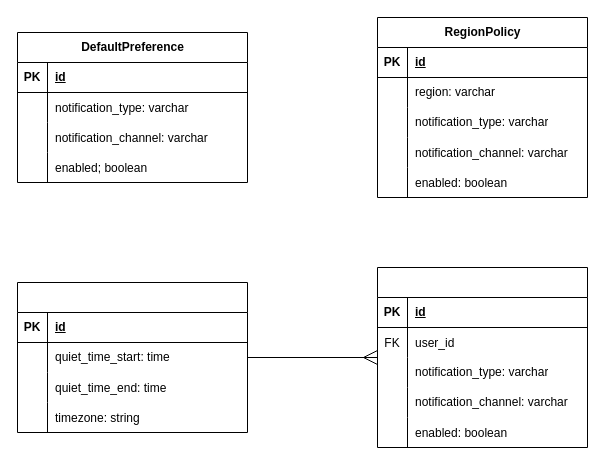
Some shapes in this 605 by 465 pixel diagram are drawn without their labels. Here are the shapes that lost their labels. From the top down, the box of each, then its label:
(16, 282, 248, 432): User
(376, 266, 588, 448): NotificationPreference
